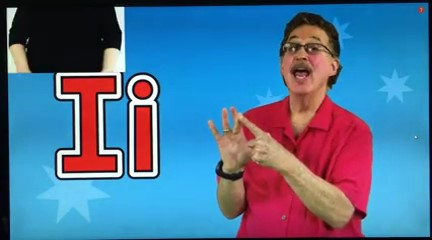I: (207, 104, 279, 176)
